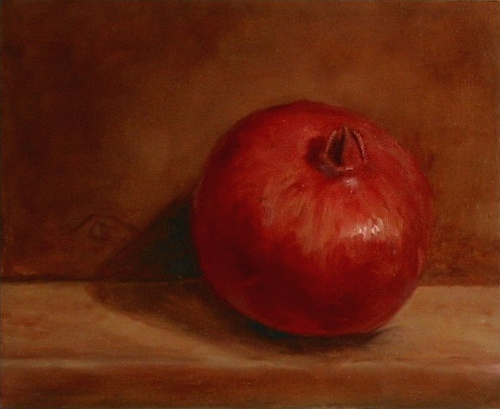pomogranate: (191, 97, 431, 340)
